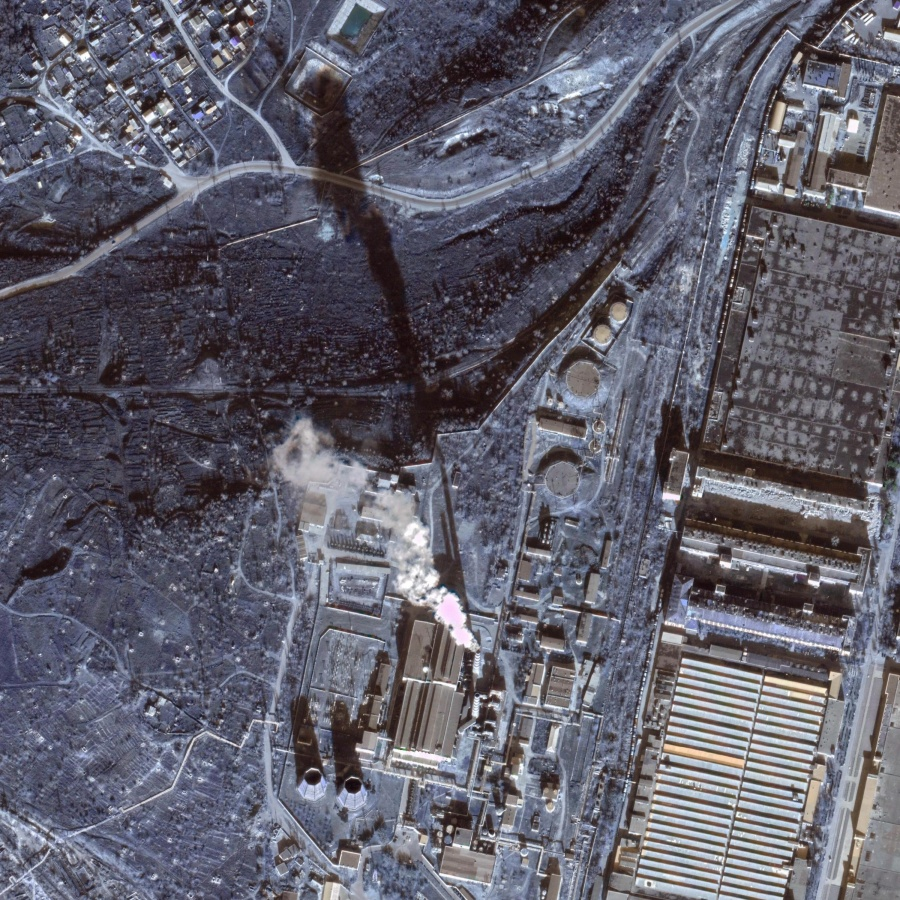PowerPlant: (284, 561, 507, 822)
